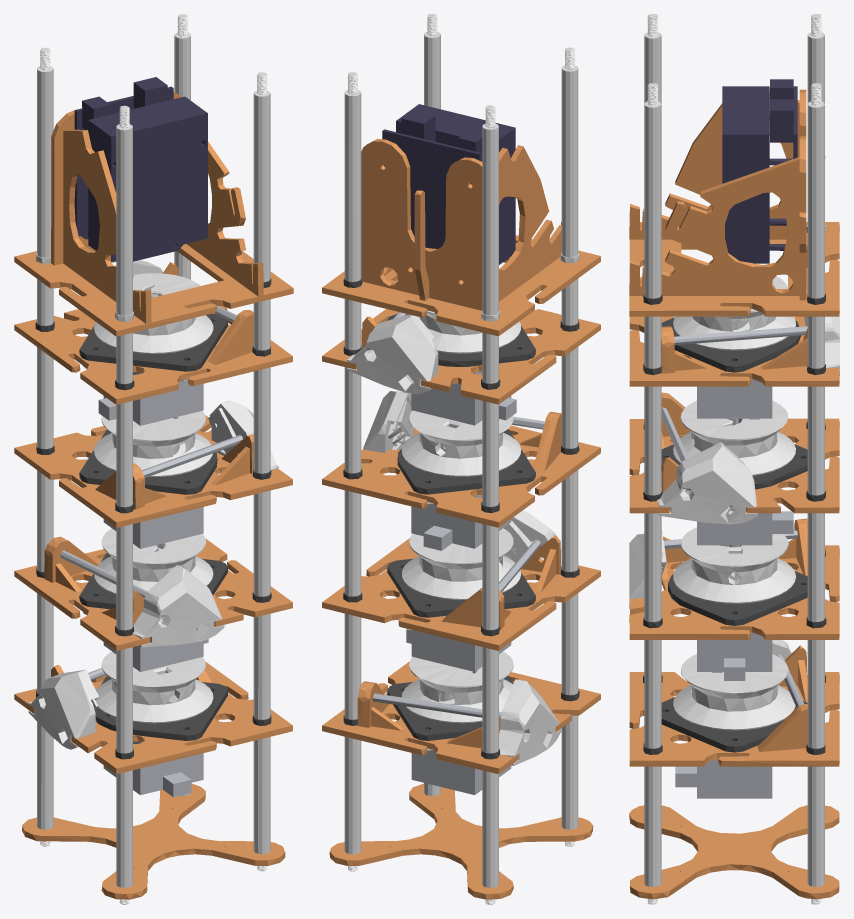
File: ActuationTower.glb
The picture shows the model from 3 angles, left to right: view 1: azimuth 30°, elevation 25°; view 2: azimuth 150°, elevation 25°; view 3: azimuth 270°, elevation 25°; orthographic projection. The views are drawn at different scales.
Parts seen in each view (by area): view 1: MotorTower; view 2: MotorTower; view 3: MotorTower.
Part boxes in pixels (x1,y1,x2,y2): MotorTower: (14,14,293,904); MotorTower: (322,14,600,904); MotorTower: (629,14,839,904).
Size of the model in its own units: 98.23 by 420 by 98.11.
